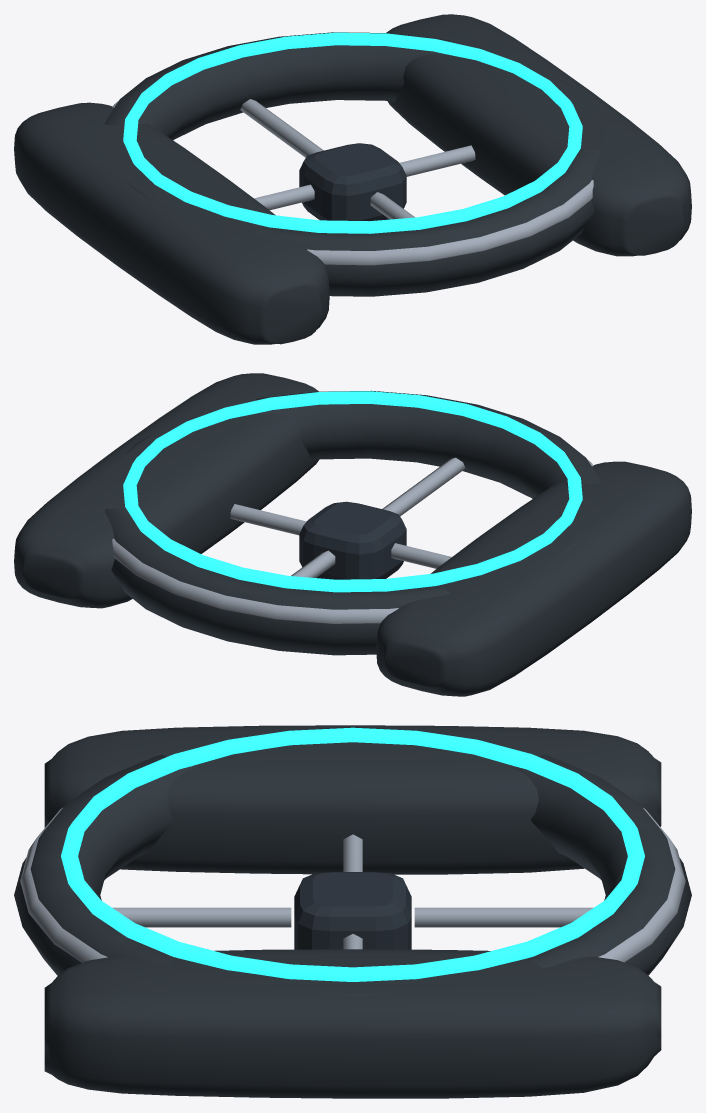
Rendered from aurora_x9_motor.gltf.
3 renders of one model, top to bottom at view 1: azimuth 30°, elevation 25°; view 2: azimuth 150°, elevation 25°; view 3: azimuth 270°, elevation 25°, orthographic. The views are drawn at different scales.
Visible parts, largest first — view 1: aurora_x9_motor; view 2: aurora_x9_motor; view 3: aurora_x9_motor.
Boxes of the visible parts, <box> form: aurora_x9_motor: <box>14,14,691,344</box>; aurora_x9_motor: <box>14,373,691,696</box>; aurora_x9_motor: <box>14,725,691,1098</box>.
Bounding box in the file's own units: 1.16 × 0.2072 × 1.1.
